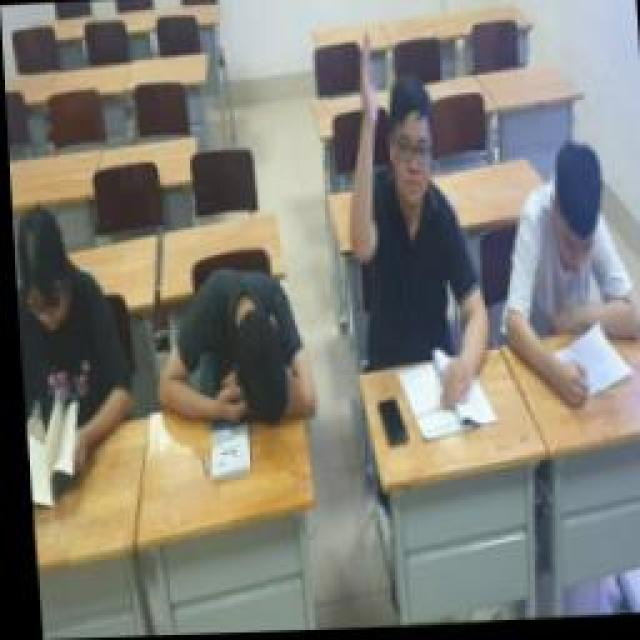sleep: (148, 270, 318, 438)
study: (323, 35, 495, 450), (492, 150, 640, 415), (10, 205, 132, 500)
